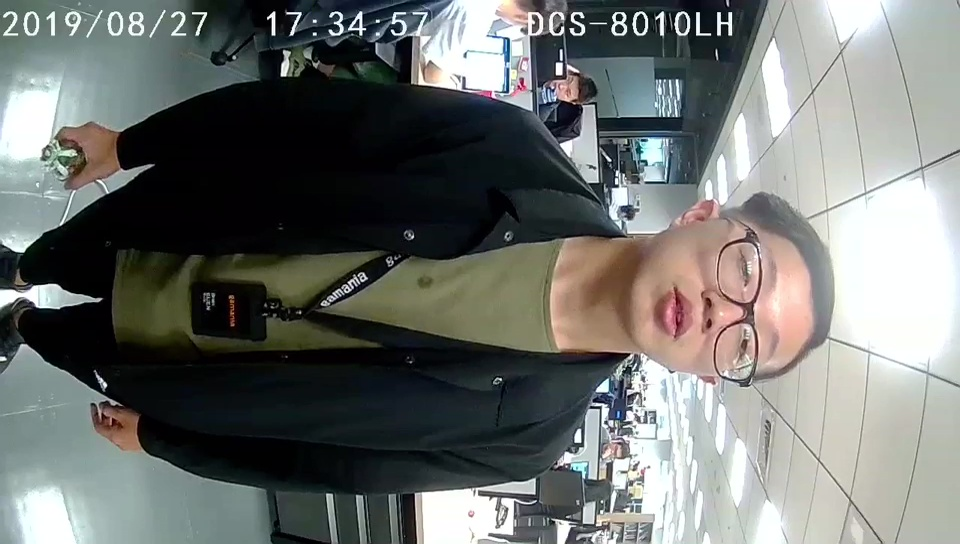buzz: (38, 137, 83, 178)
